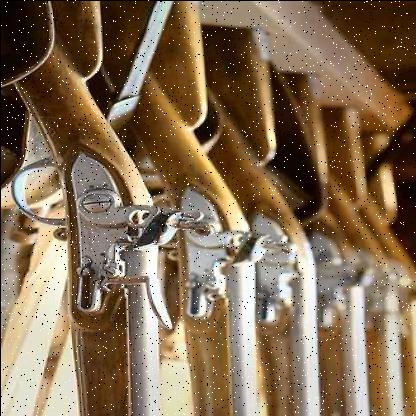rifle: (1, 1, 167, 416)
